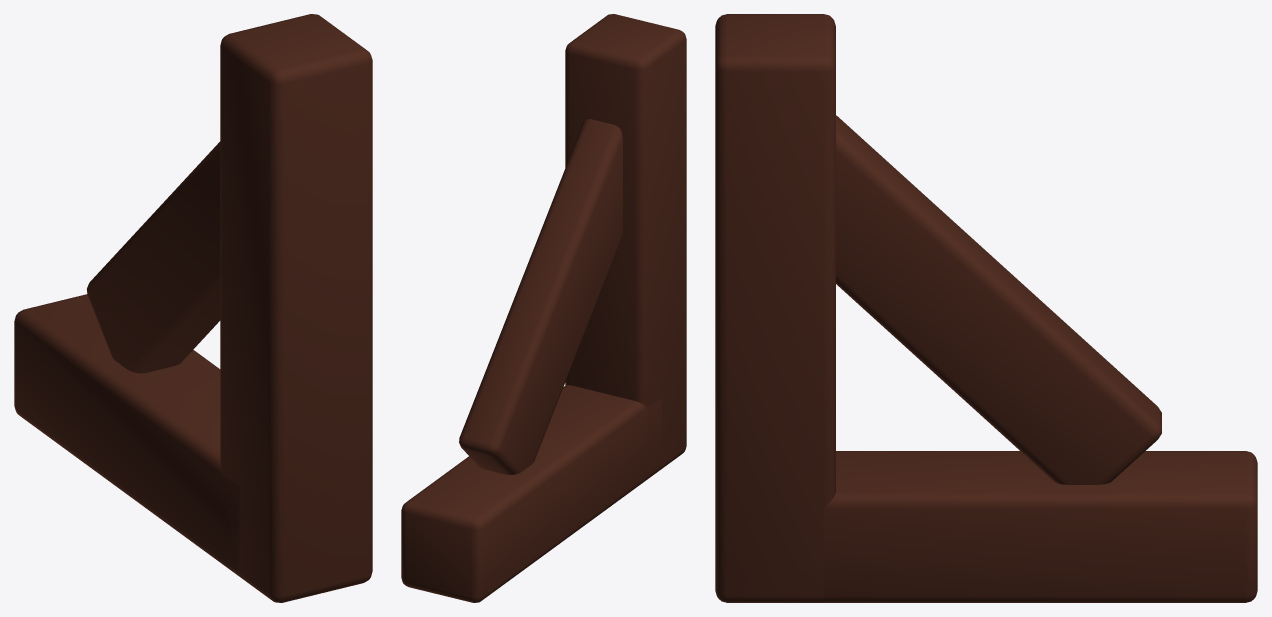
File: BB_PROP_IronBracket.obj
The picture shows the model from 3 angles, left to right: view 1: azimuth 30°, elevation 25°; view 2: azimuth 150°, elevation 25°; view 3: azimuth 270°, elevation 25°; orthographic projection. The views are drawn at different scales.
Visible parts, largest first — view 1: BB_PROP_IronBracket; view 2: BB_PROP_IronBracket; view 3: BB_PROP_IronBracket.
Boxes of the visible parts, left/top/right/bottom form: BB_PROP_IronBracket: left=14, top=14, right=372, bottom=602; BB_PROP_IronBracket: left=401, top=14, right=686, bottom=602; BB_PROP_IronBracket: left=715, top=14, right=1257, bottom=602.
Bounding box in the file's own units: 0.1 × 0.5 × 0.45.
